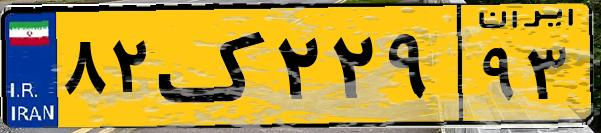2: (270, 28, 330, 110), (330, 28, 385, 110), (110, 28, 158, 98)
3: (525, 38, 570, 115)
8: (57, 26, 110, 100)
9: (385, 28, 445, 110), (475, 38, 525, 113)
ک: (158, 12, 270, 120)
